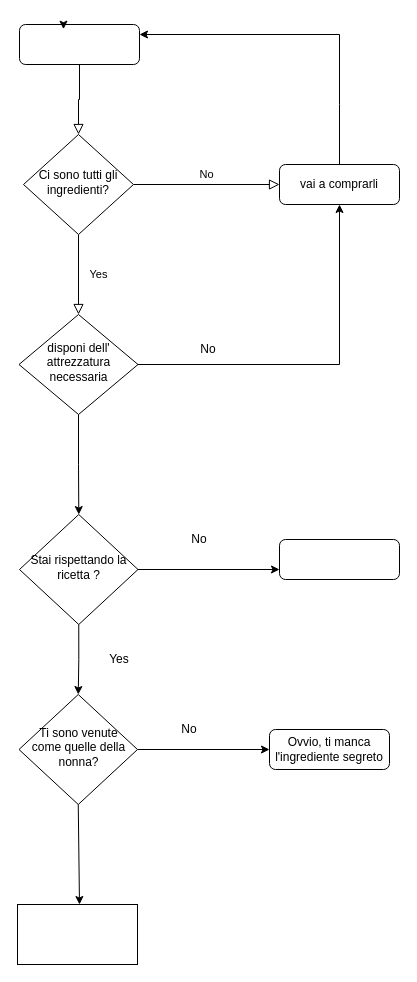
Image size: 417x982. Some labels were removed from this diagram. Here are the shapes that lost their labels. From the top down, the box of each, then its label:
(18, 24, 140, 64): Inizio preparazione lasagne
(278, 538, 400, 580): Impara la ricetta
(16, 904, 138, 964): Bugia, non ti verranno mai come quelle della nonna, chiamala e fatela insieme
